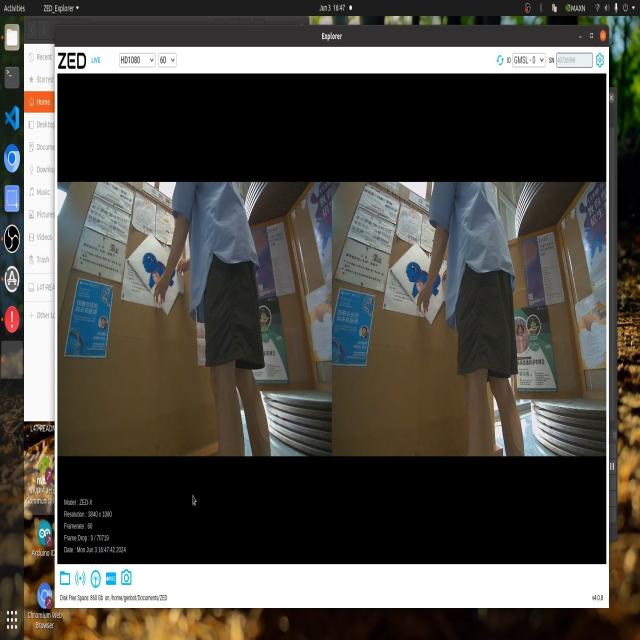blue: (142, 245, 170, 299), (396, 258, 434, 290)
